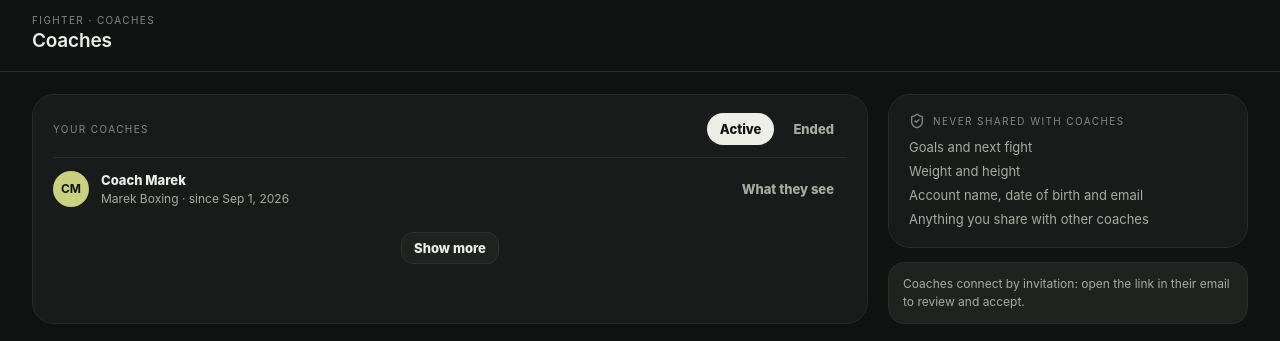
Test case: My coaches (WFC1) › pages with the backend cursor
Click the button "Show more" at {"x": 450, "y": 248}, box x1=401 y1=232 x2=499 y2=264
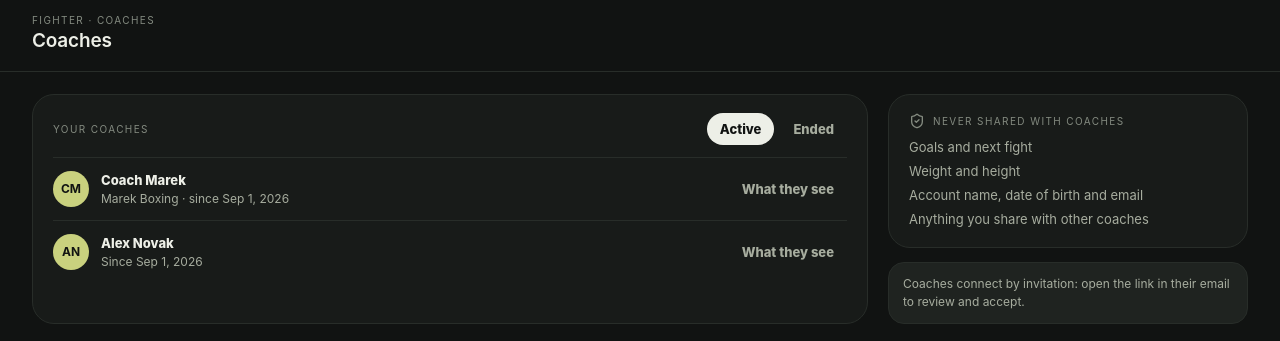
Expected: the text "Alex Novak" is shown, x1=101 y1=235 x2=174 y2=251
